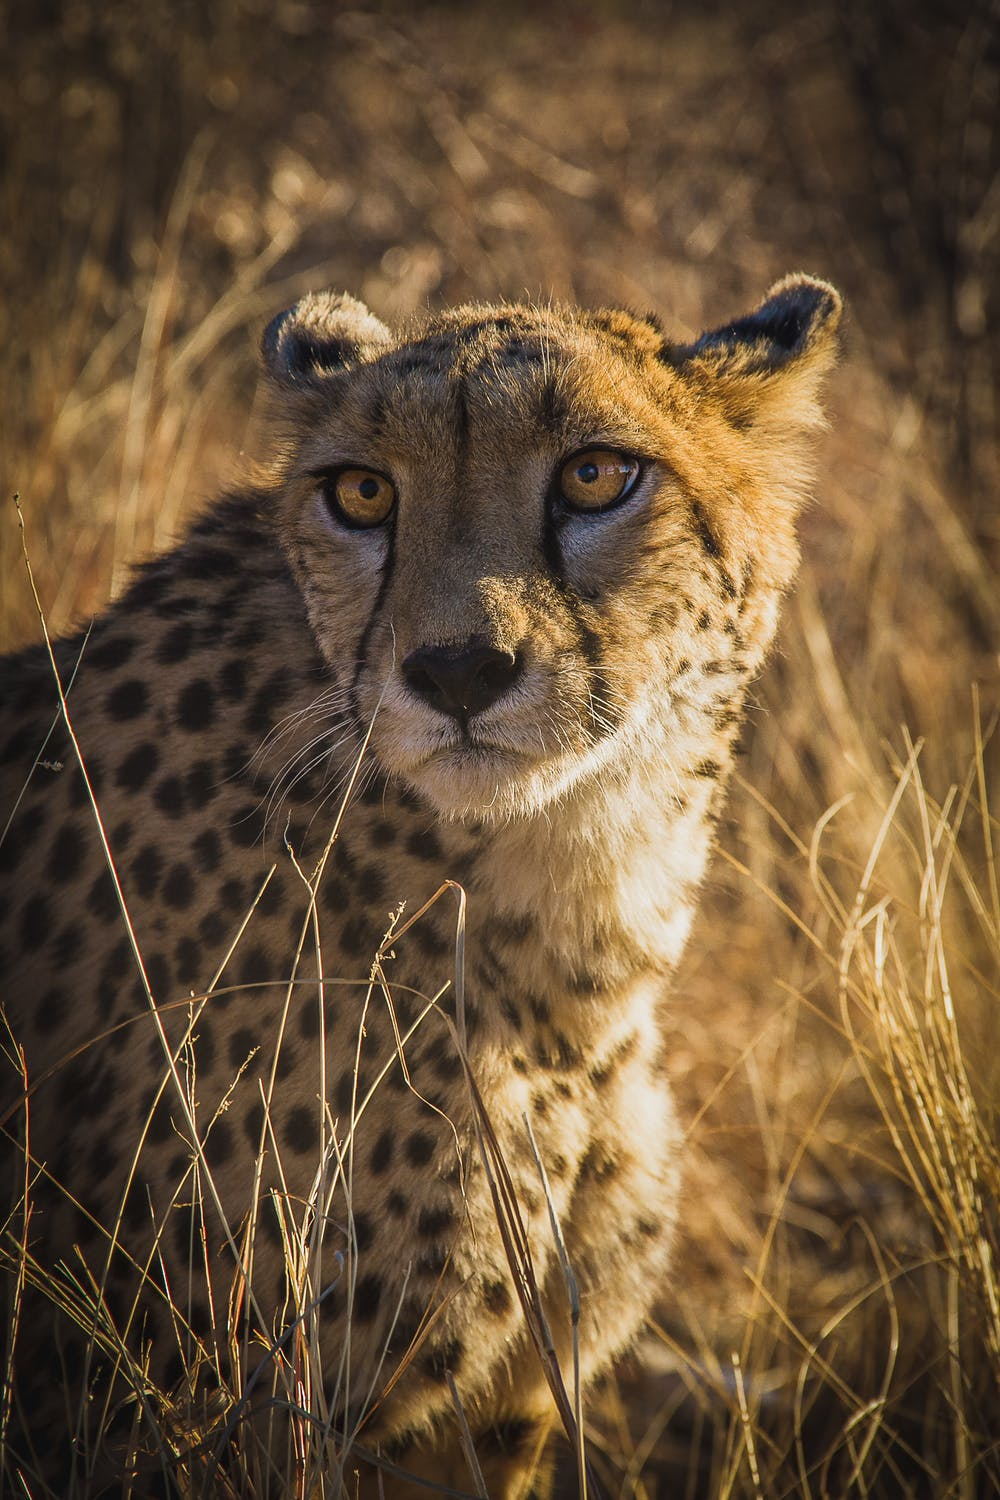cheetah: (228, 253, 862, 850)
